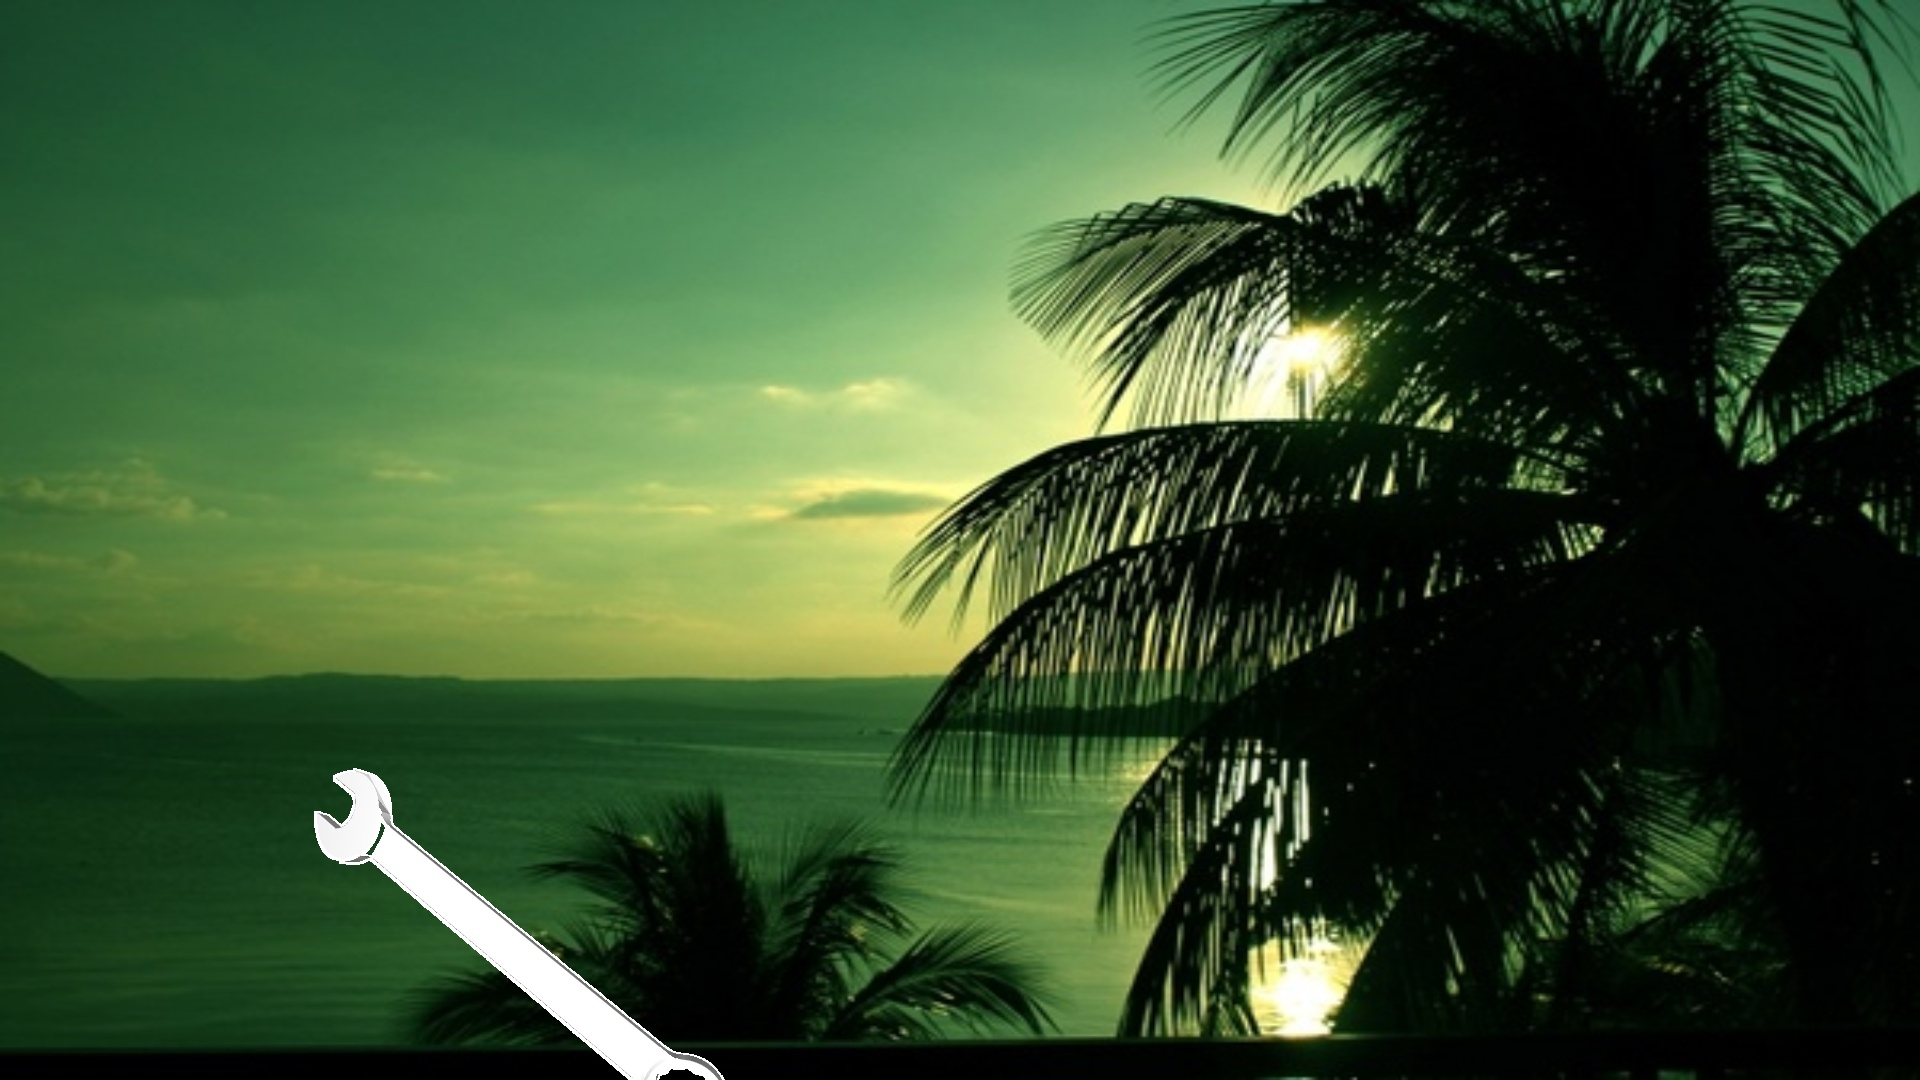Mixed Key: (314, 767, 724, 1079)
